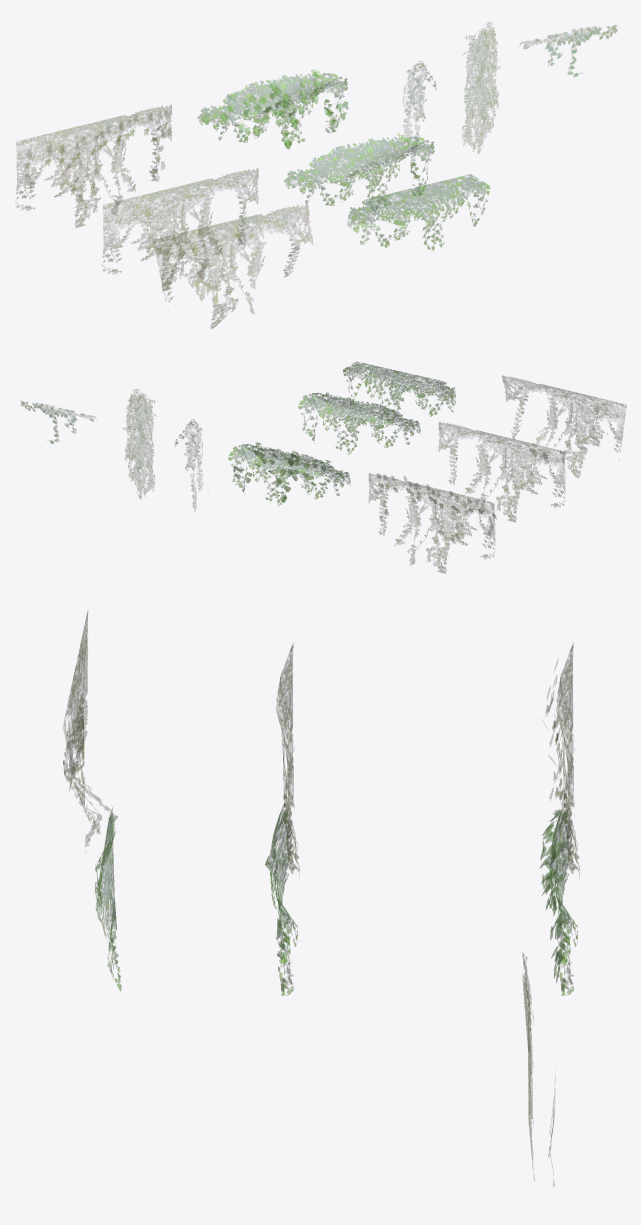
Rendered from low_poly_Ivy.glb.
3 renders of one model, top to bottom at view 1: azimuth 30°, elevation 25°; view 2: azimuth 150°, elevation 25°; view 3: azimuth 270°, elevation 25°, orthographic. The views are drawn at different scales.
Parts seen in each view (by area): view 1: unnamed (×9); view 2: unnamed (×9); view 3: unnamed (×7).
Boxes of the visible parts, x1,y1,x2,y2 form: unnamed (×9): [15, 22, 617, 328]; unnamed (×9): [21, 361, 626, 573]; unnamed (×7): [63, 611, 579, 1180].
Size of the model in its own units: 9.81 by 2.09 by 4.44.
Materials: 1 (1 with a texture image).
